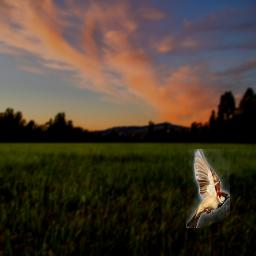Sparrow: (186, 149, 230, 228)
